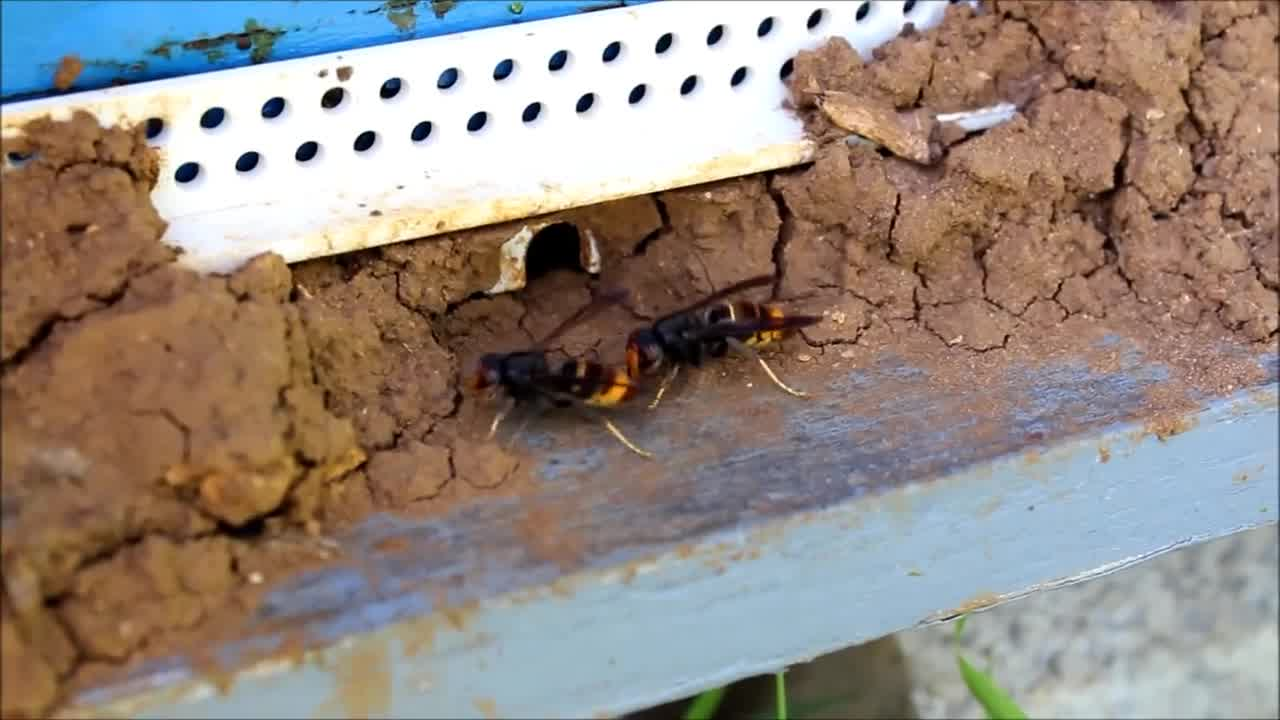hornet: (627, 284, 831, 393), (466, 335, 654, 440)
